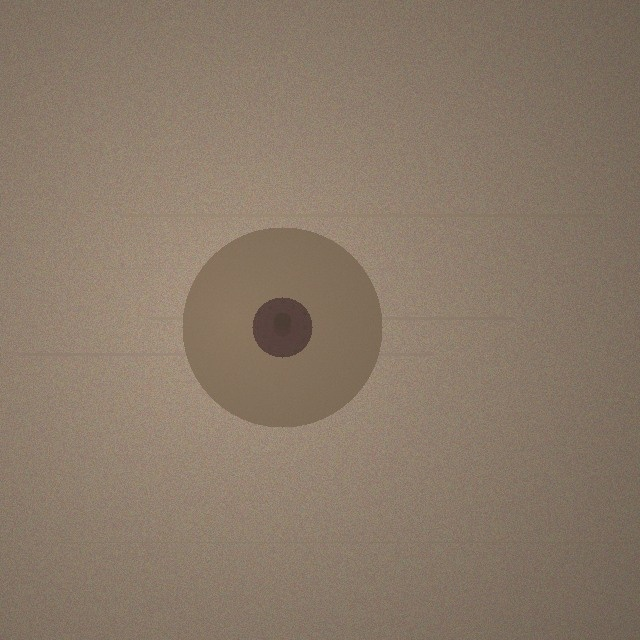cold_weld: (182, 227, 382, 427)
